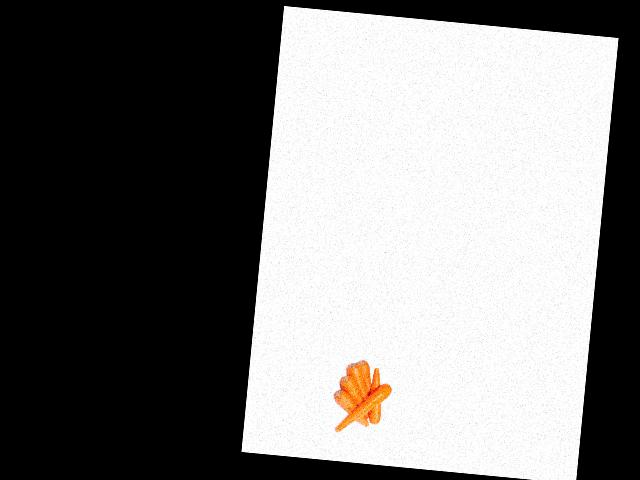carrot: (326, 390, 372, 432)
